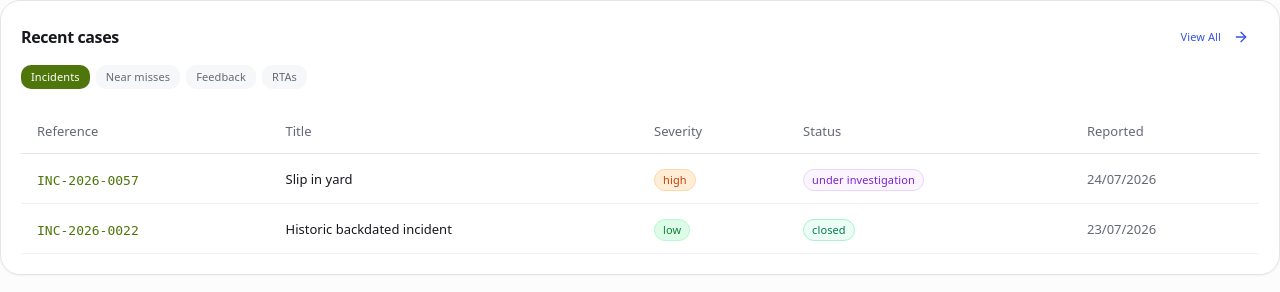
Test: RecentCasesPanel date column (PX-122) › names the field each tab actually shows instead of a bare "Date"
Expected: the column heading with test id "recent-cases-date-header" reads "Reported", [1087,122,1144,140]
Step 1. Click the tab with test id "recent-cases-tab-near_misses" → x=138, y=77, box [96,65,180,89]
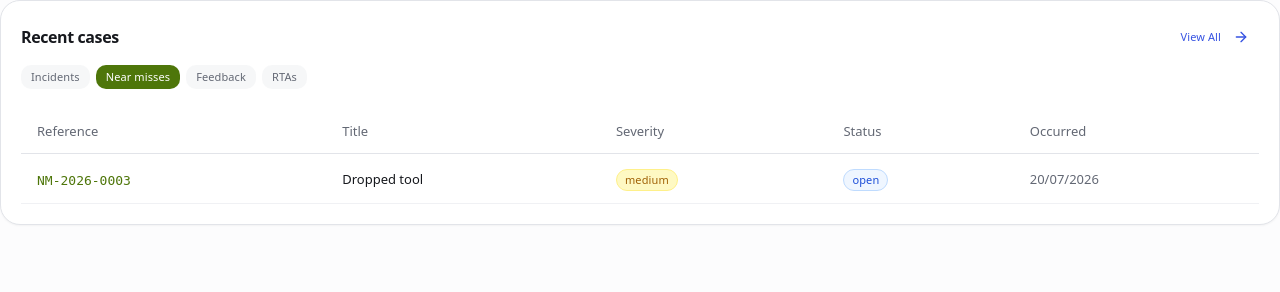
Expected: the column heading with test id "recent-cases-date-header" reads "Occurred", [1030,122,1086,140]
Step 2. Click the tab with test id "recent-cases-tab-complaints" → x=221, y=77, box [186,65,256,89]
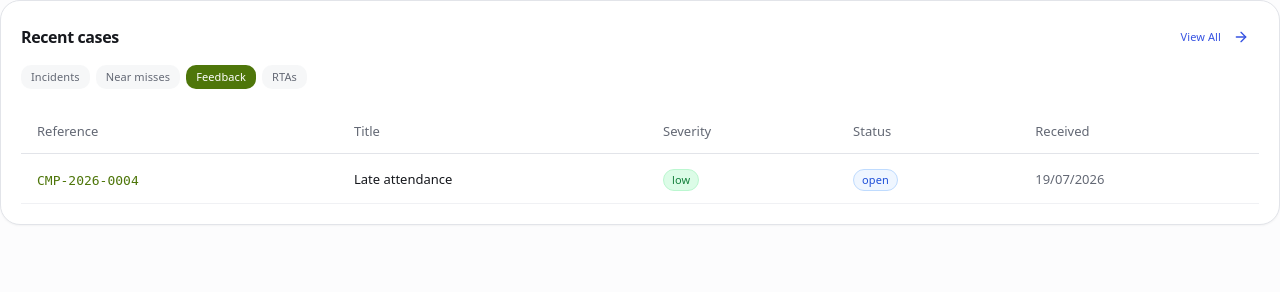
Expected: the column heading with test id "recent-cases-date-header" reads "Received", [1035,122,1090,140]
Step 3. Click the tab with test id "recent-cases-tab-rtas" → x=284, y=77, box [262,65,307,89]
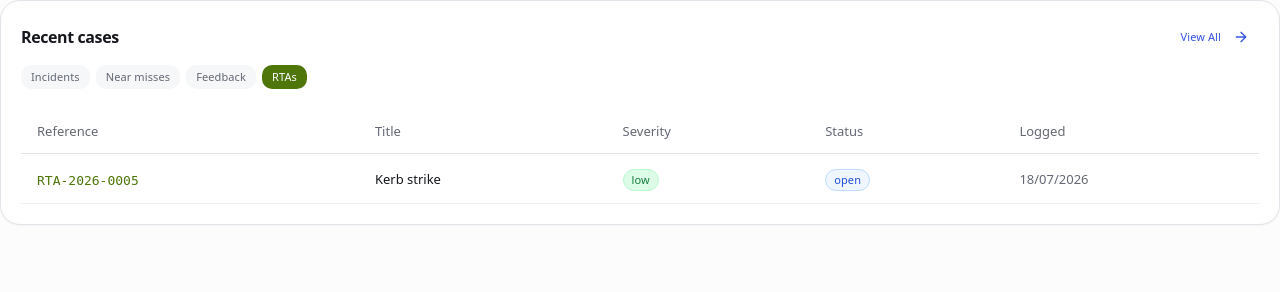
Expected: the column heading with test id "recent-cases-date-header" reads "Logged", [1019,122,1065,140]
